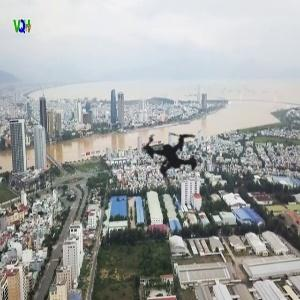drone: (95, 74, 252, 231)
